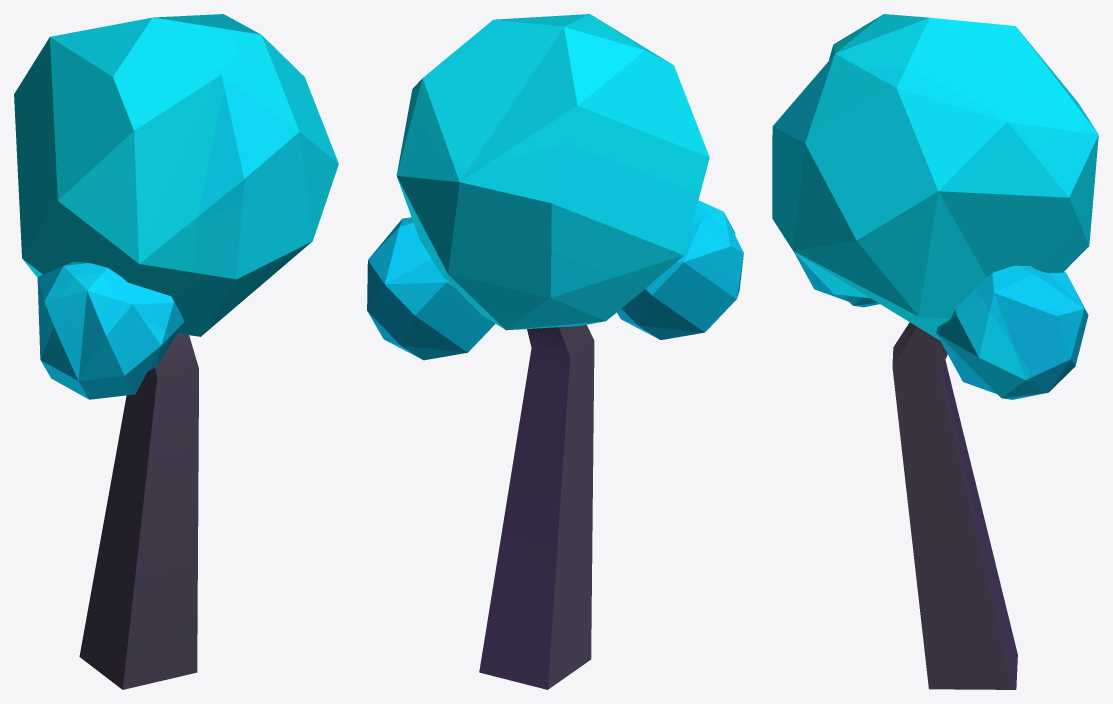
The model's file is Tree5.fbx.
3 renders of one model, left to right at view 1: azimuth 30°, elevation 25°; view 2: azimuth 150°, elevation 25°; view 3: azimuth 270°, elevation 25°, orthographic. The views are drawn at different scales.
Parts seen in each view (by area): view 1: Tree5; view 2: Tree5; view 3: Tree5.
Boxes of the visible parts, left/top/right/bottom form: Tree5: left=14, top=14, right=338, bottom=689; Tree5: left=367, top=14, right=743, bottom=689; Tree5: left=772, top=14, right=1098, bottom=689.
Bounding box in the file's own units: 2.43 × 5.06 × 2.3.
